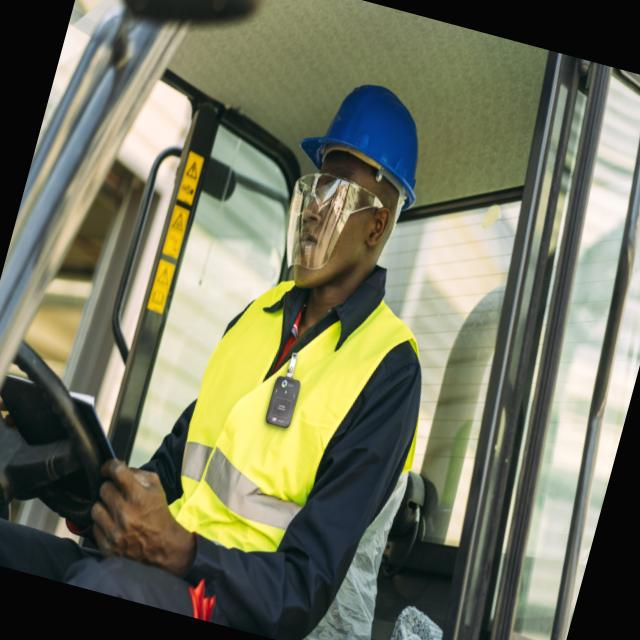goggles: (270, 166, 395, 289)
helmet: (292, 68, 440, 227)
vest: (158, 258, 394, 566)
